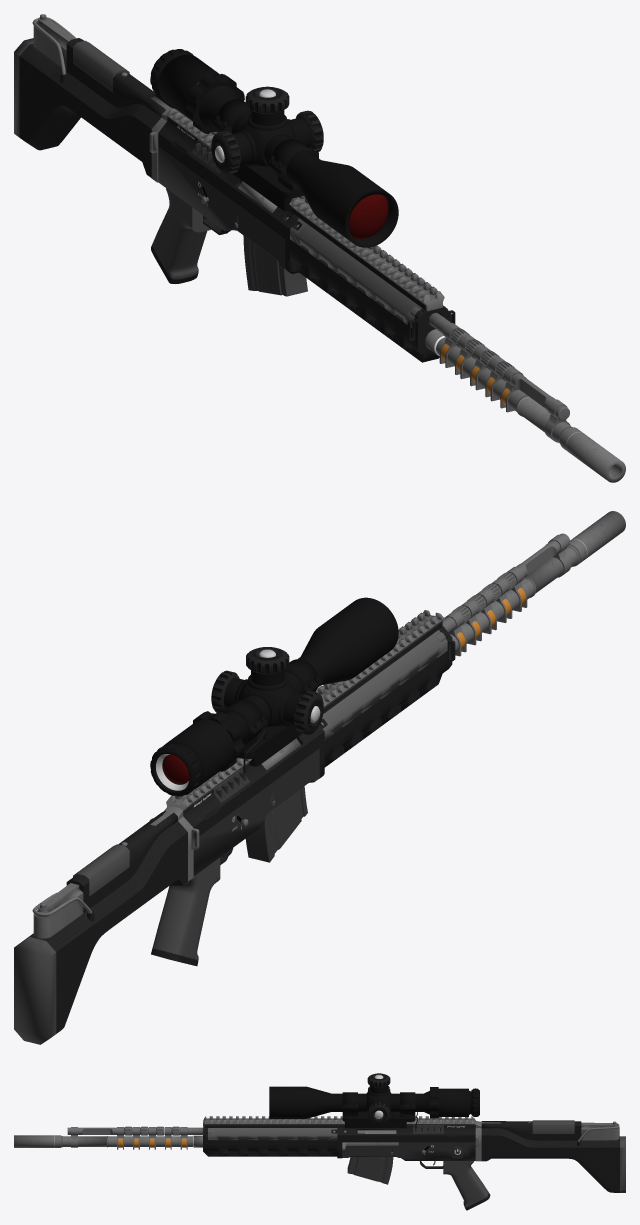
File: old_-_defender_dmr.glb
The picture shows the model from 3 angles, top to bottom: view 1: azimuth 30°, elevation 25°; view 2: azimuth 150°, elevation 25°; view 3: azimuth 270°, elevation 25°; orthographic projection. The views are drawn at different scales.
Parts seen in each view (by area): view 1: Object_4, Object_2, Object_8, Object_3, Object_9; view 2: Object_4, Object_2, Object_8; view 3: Object_4, Object_2, Object_8, Object_9.
Part boxes in pixels (<box>): Object_4: <box>14,14,625,482</box>; Object_2: <box>150,49,398,247</box>; Object_8: <box>243,235,307,296</box>; Object_3: <box>349,194,388,238</box>; Object_9: <box>254,243,280,292</box>; Object_4: <box>14,511,625,1044</box>; Object_2: <box>150,597,398,796</box>; Object_8: <box>245,786,307,862</box>; Object_4: <box>14,1116,625,1210</box>; Object_2: <box>269,1073,479,1128</box>; Object_8: <box>347,1157,393,1184</box>; Object_9: <box>355,1157,381,1179</box>.
Bounding box in the file's own units: 0.9959 × 2.42 × 10.19.
8 materials, 3 textured.
